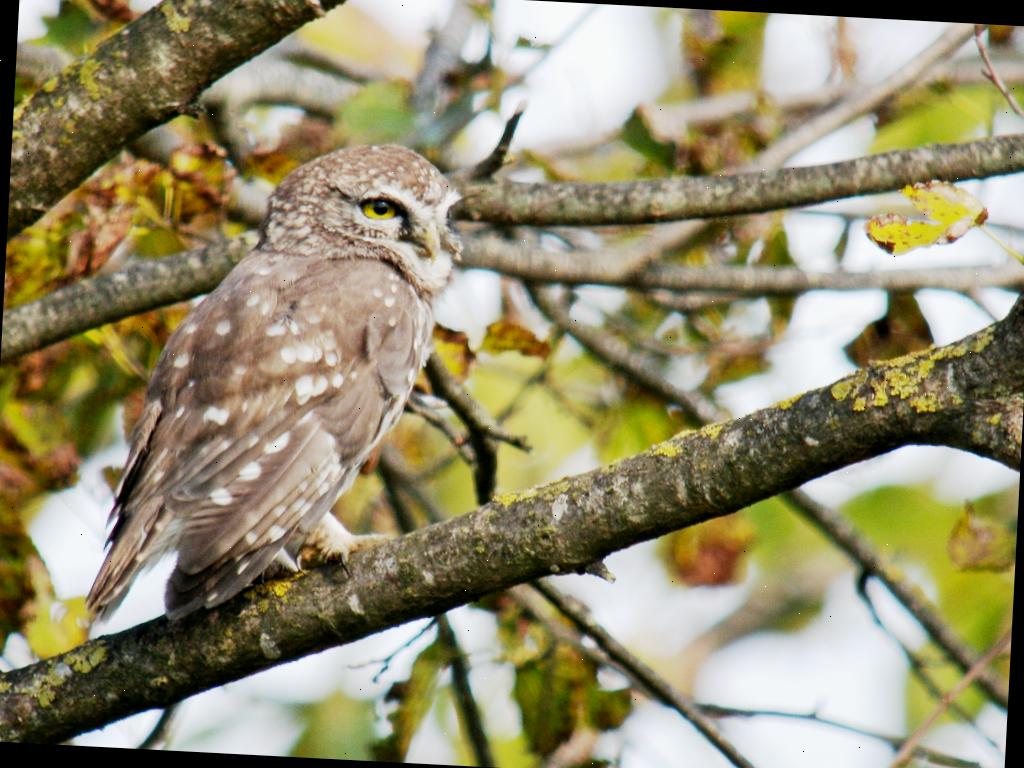Owl: (82, 129, 472, 645)
